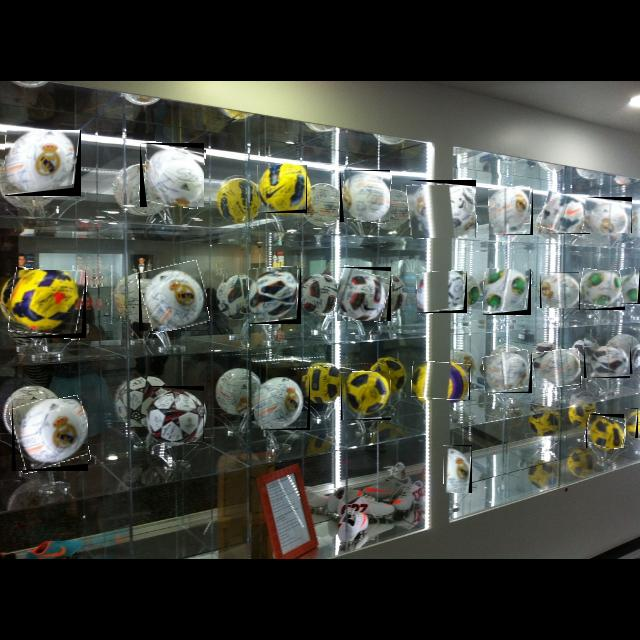Football: (12, 399, 88, 471), (10, 270, 86, 338), (5, 130, 81, 196), (139, 263, 207, 331), (140, 143, 204, 207), (408, 180, 476, 238), (144, 386, 204, 442), (254, 376, 310, 430), (337, 267, 391, 321), (249, 268, 301, 324), (340, 170, 390, 222), (257, 165, 307, 213), (341, 372, 391, 420), (483, 269, 531, 315), (412, 362, 470, 400), (489, 187, 533, 235), (417, 271, 467, 313), (484, 351, 532, 393), (542, 194, 590, 234), (579, 270, 625, 310), (533, 350, 581, 388), (586, 197, 632, 233), (584, 346, 630, 378), (540, 272, 580, 308), (444, 445, 472, 493), (586, 414, 624, 448), (621, 267, 640, 304), (626, 408, 638, 438), (630, 344, 638, 374)
